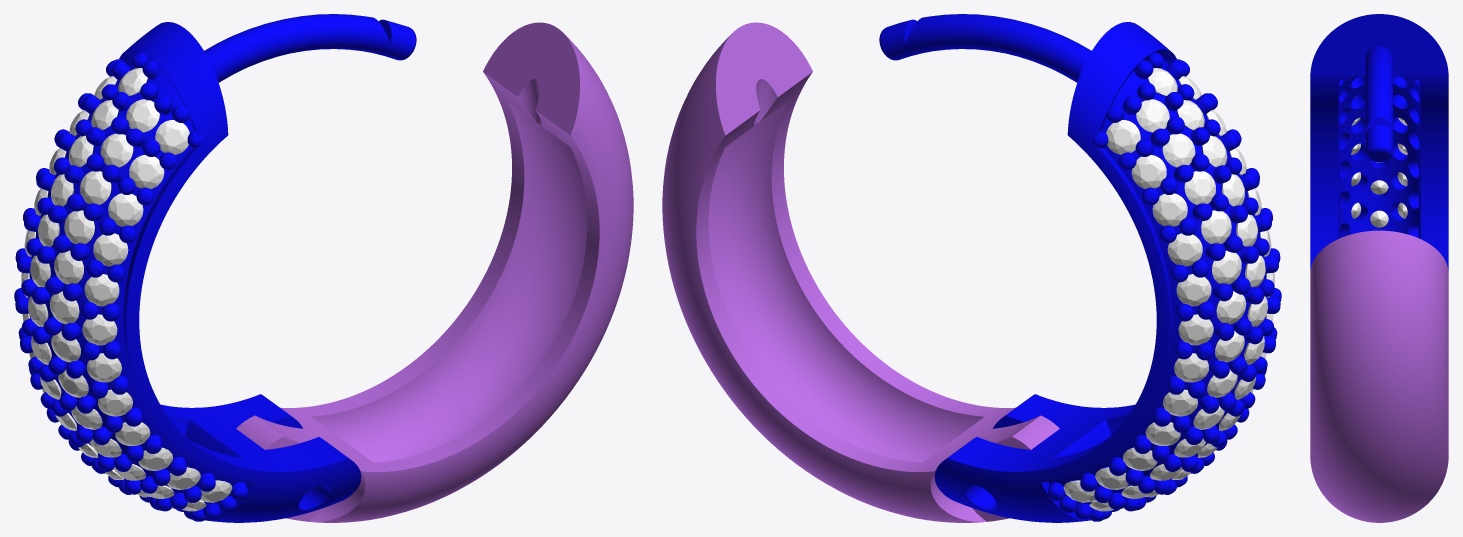
The picture shows the model from 3 angles, left to right: view 1: azimuth 30°, elevation 25°; view 2: azimuth 150°, elevation 25°; view 3: azimuth 270°, elevation 25°; orthographic projection. The views are drawn at different scales.
Visible parts, largest first — view 1: Brinco Clic e Dorbradiça.3dm, Brillante (×12); view 2: Brinco Clic e Dorbradiça.3dm, Brillante (×12); view 3: Brinco Clic e Dorbradiça.3dm, Brillante (×2).
Boxes of the visible parts, x1,y1,x2,y2 form: Brinco Clic e Dorbradiça.3dm: (14, 14, 633, 522); Brillante (×12): (54, 99, 189, 382); Brinco Clic e Dorbradiça.3dm: (662, 14, 1281, 522); Brillante (×12): (1106, 99, 1241, 382); Brinco Clic e Dorbradiça.3dm: (1310, 14, 1448, 522); Brillante (×2): (1370, 180, 1388, 227).
Bounding box in the file's own units: 2.99 × 2.54 × 0.7656.
